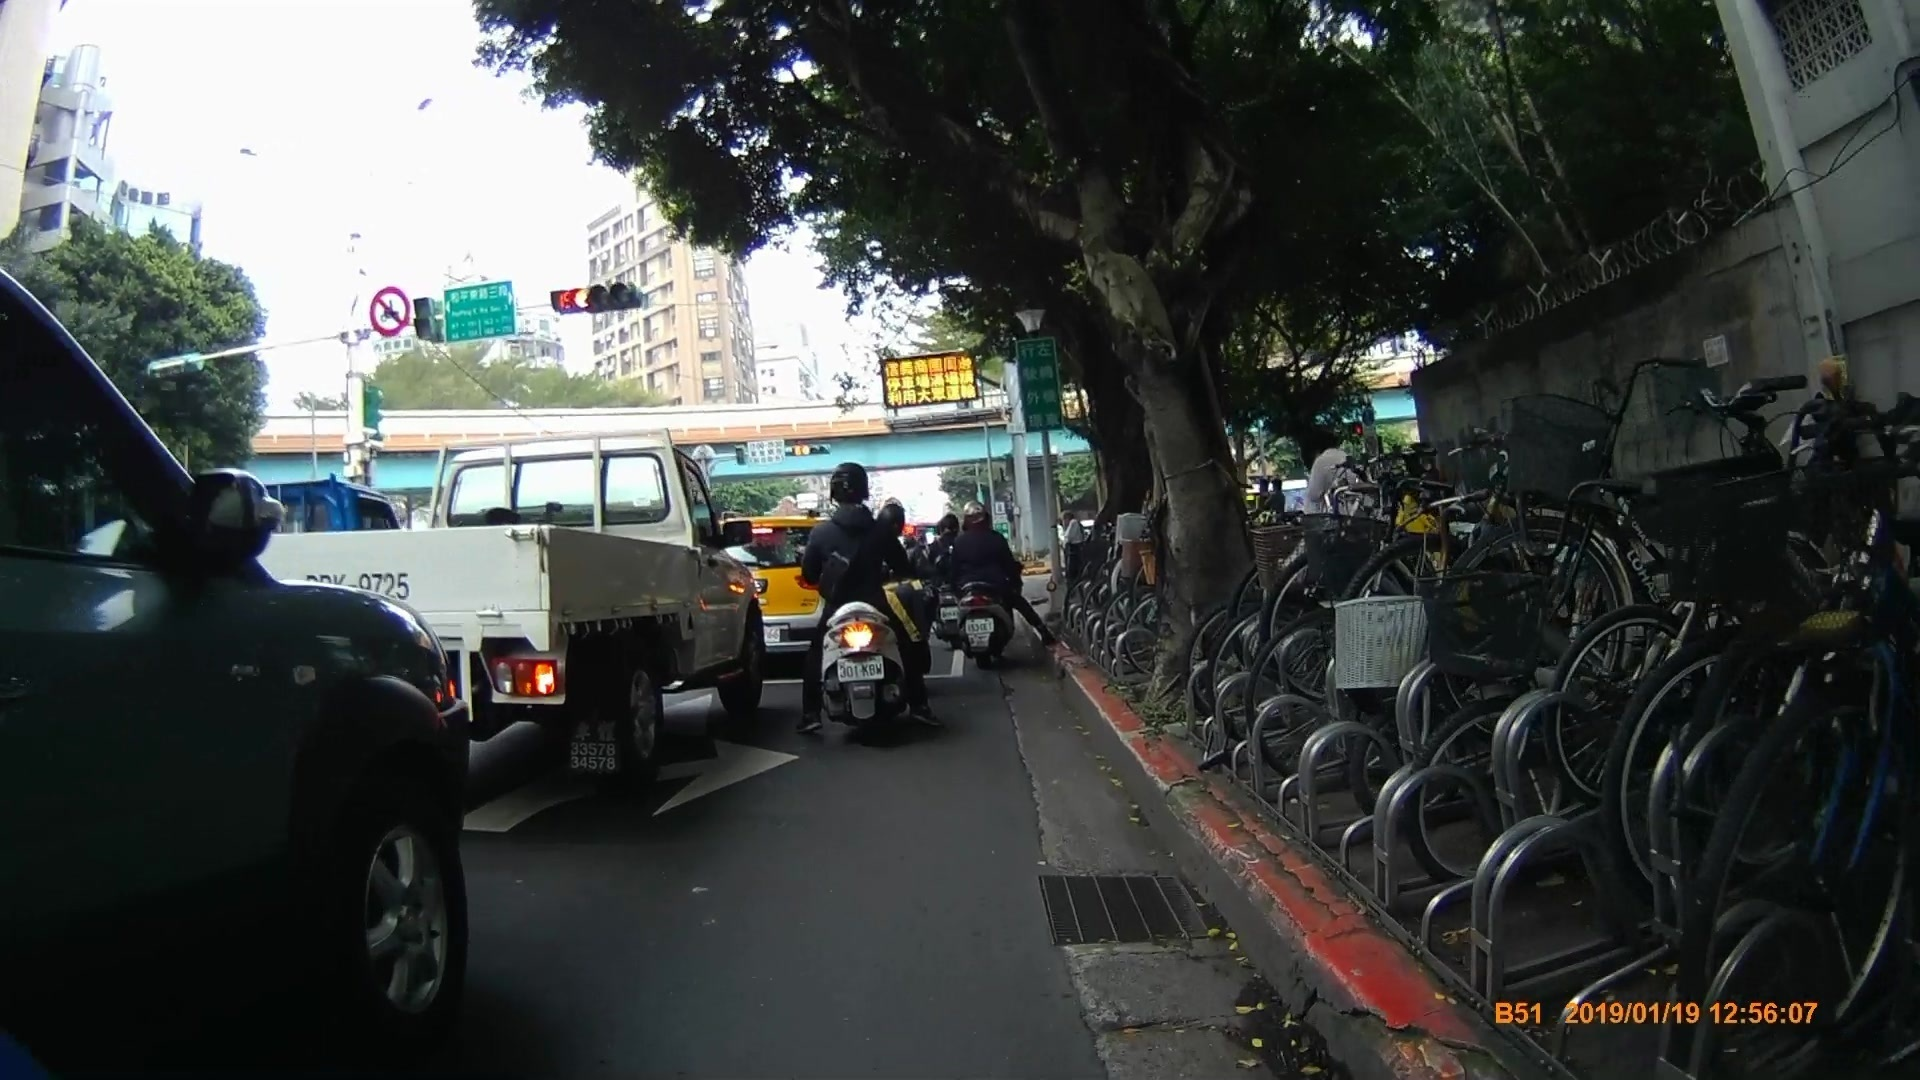License_plate: (838, 653, 884, 680), (961, 612, 1000, 637)
